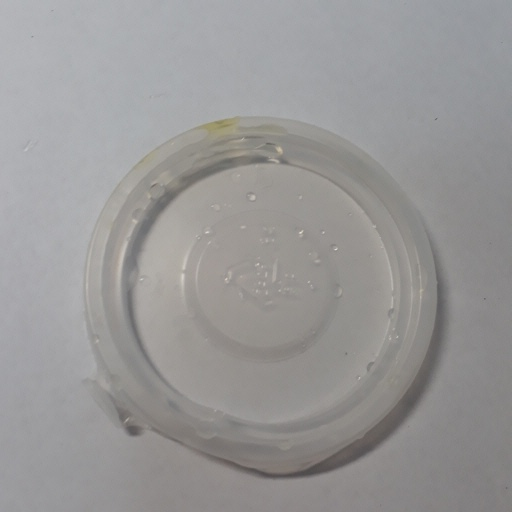Plastic_5: (81, 117, 440, 475)
